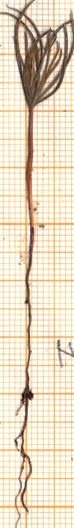flower: (2, 0, 73, 117)
root: (13, 229, 41, 527)
stem: (19, 111, 39, 229)
